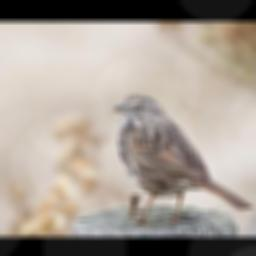Sparrow: (112, 90, 255, 225)
